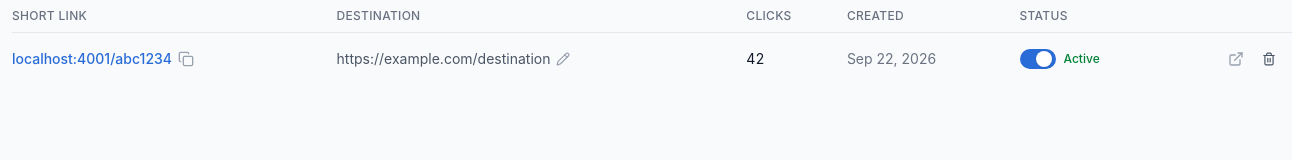
LinksTable › editing the destination url › shows an editable input, pre-filled, on the pencil click
The width and height of the screenshot is (1292, 160).
Click the button named "Edit destination URL": (564, 59) [556,52,570,66]
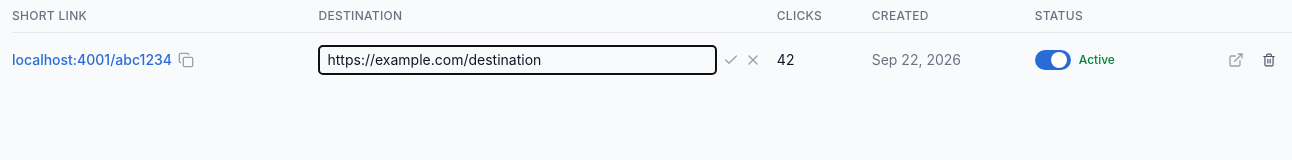
expect the field named "Destination URL" holds "https://example.com/destination": met, box [318,45,717,75]
